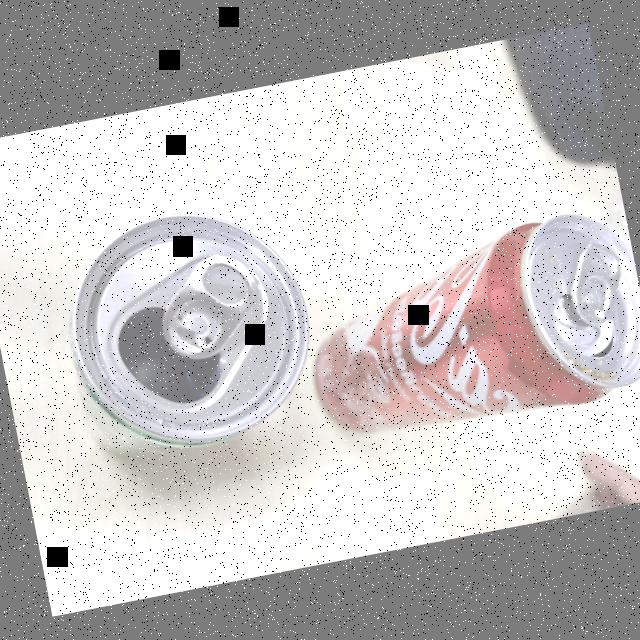can: (33, 186, 336, 484), (290, 205, 640, 456)
